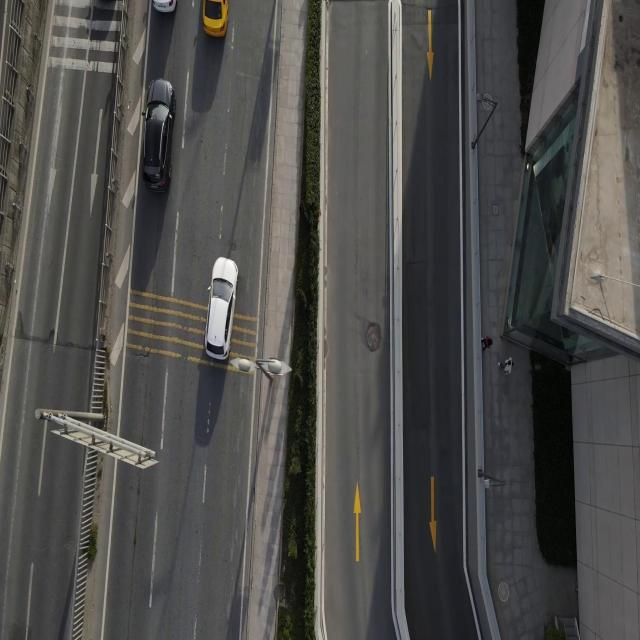p3rson: (496, 355, 514, 376), (480, 332, 493, 353)
